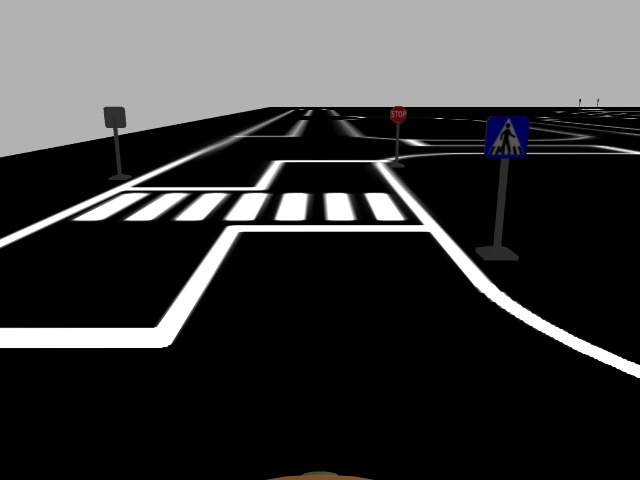crosswalk: (484, 114, 531, 162)
stop: (387, 105, 410, 124)
